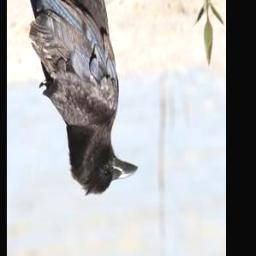Crow: (18, 0, 140, 198)
